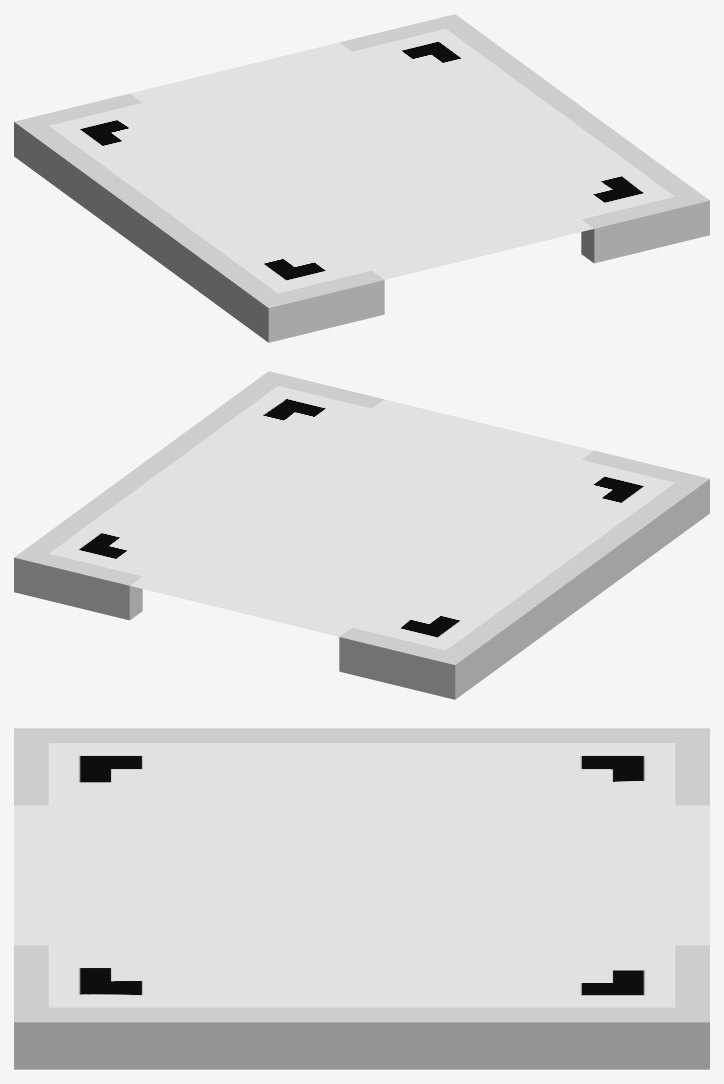
File: Floor_TestChamber_2-2.fbx
The picture shows the model from 3 angles, top to bottom: view 1: azimuth 30°, elevation 25°; view 2: azimuth 150°, elevation 25°; view 3: azimuth 270°, elevation 25°; orthographic projection. The views are drawn at different scales.
Visible parts, largest first — view 1: Floor_TestChamber_2-2; view 2: Floor_TestChamber_2-2; view 3: Floor_TestChamber_2-2.
Part boxes in pixels (x1,y1,x2,y2): Floor_TestChamber_2-2: [14, 14, 709, 342]; Floor_TestChamber_2-2: [14, 371, 709, 699]; Floor_TestChamber_2-2: [14, 728, 709, 1069].
Size of the model in its own units: 400 by 30 by 400.
Materials: 3 (1 with a texture image).
